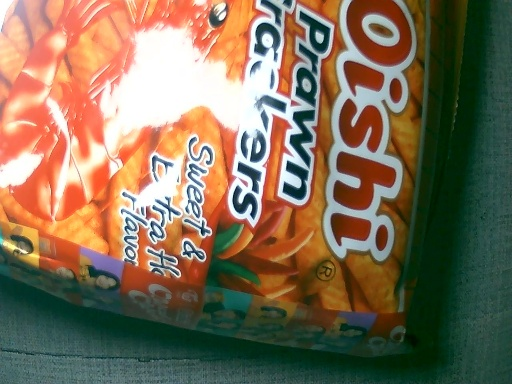plastic: (1, 1, 462, 379)
